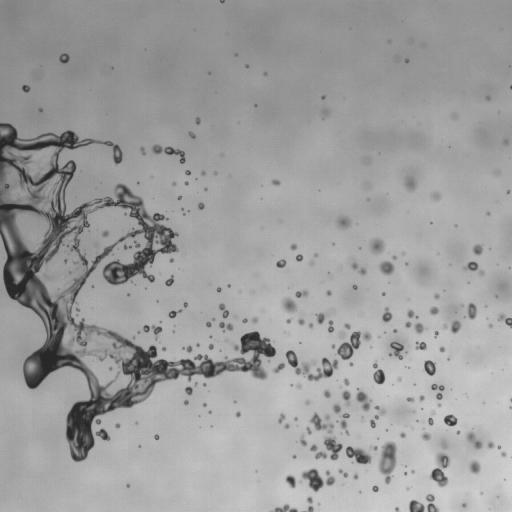droplet: (426, 452, 450, 487), (408, 493, 439, 511), (279, 296, 298, 314), (440, 319, 461, 334), (368, 237, 385, 255), (388, 341, 404, 360), (335, 215, 351, 230), (378, 260, 394, 275), (463, 302, 477, 319), (430, 383, 444, 400), (422, 360, 436, 375), (443, 414, 458, 427), (404, 176, 416, 192), (218, 321, 233, 333), (382, 306, 392, 323), (414, 322, 428, 334), (469, 459, 480, 474), (420, 427, 431, 441), (272, 362, 285, 373), (406, 308, 418, 319), (414, 341, 427, 351), (294, 289, 308, 298), (472, 244, 483, 255), (75, 129, 86, 140), (26, 130, 37, 141), (60, 147, 71, 158), (202, 174, 213, 185), (370, 228, 381, 239), (284, 250, 295, 261), (378, 250, 389, 261), (122, 254, 133, 265), (369, 264, 380, 275), (418, 313, 429, 324), (430, 314, 441, 325), (459, 316, 470, 327), (161, 317, 172, 328), (34, 337, 45, 348), (426, 339, 437, 350), (404, 340, 415, 351), (326, 349, 337, 360), (419, 349, 430, 360), (209, 351, 220, 362), (274, 351, 285, 362), (59, 364, 70, 375), (46, 370, 57, 381), (192, 372, 203, 383), (349, 398, 360, 409), (114, 405, 125, 416), (329, 412, 340, 423), (300, 416, 311, 427), (56, 420, 67, 431), (315, 429, 326, 440), (59, 438, 70, 449), (470, 449, 481, 460), (370, 451, 381, 462), (321, 457, 332, 468), (391, 465, 402, 476), (296, 500, 307, 511), (320, 107, 330, 119), (430, 191, 441, 201), (277, 412, 287, 423), (165, 274, 174, 286), (297, 313, 305, 326), (59, 53, 69, 63), (276, 259, 286, 268), (429, 306, 439, 315), (182, 344, 192, 353), (290, 382, 302, 389), (338, 330, 347, 339), (191, 124, 200, 133), (198, 176, 207, 185), (414, 179, 423, 188), (129, 185, 138, 194), (341, 208, 350, 217), (328, 219, 337, 228), (345, 225, 354, 234), (361, 241, 370, 250), (362, 245, 371, 254), (101, 255, 110, 264), (143, 263, 152, 272), (133, 272, 142, 281), (155, 275, 164, 284), (215, 293, 224, 302), (475, 306, 484, 315), (290, 311, 299, 320), (333, 321, 342, 330), (244, 324, 253, 333), (416, 332, 425, 341), (393, 333, 402, 342), (435, 336, 444, 345), (198, 345, 207, 354), (155, 350, 164, 359), (244, 350, 253, 359), (337, 358, 346, 367), (177, 373, 186, 382), (297, 373, 306, 382), (428, 374, 437, 383), (81, 392, 90, 401), (335, 396, 344, 405), (411, 399, 420, 408), (367, 407, 376, 416), (434, 414, 443, 423), (89, 422, 98, 431), (92, 434, 101, 443), (305, 435, 314, 444), (376, 438, 385, 447), (317, 442, 326, 451), (393, 449, 402, 458), (333, 472, 342, 481), (319, 483, 328, 492), (304, 486, 313, 495), (21, 85, 30, 93), (362, 156, 371, 164), (184, 386, 192, 395), (323, 389, 331, 398), (505, 444, 511, 455), (139, 146, 146, 155), (271, 179, 280, 186), (101, 230, 110, 237), (343, 376, 349, 386), (451, 112, 458, 120), (197, 202, 204, 210), (93, 242, 100, 250), (251, 316, 258, 324), (0, 254, 5, 265), (0, 278, 5, 289), (188, 131, 195, 138), (290, 243, 297, 250), (296, 254, 303, 261), (308, 259, 315, 266), (404, 321, 411, 328), (399, 432, 406, 439), (145, 146, 152, 153), (181, 162, 188, 169), (205, 169, 212, 176), (398, 178, 405, 185), (176, 179, 183, 186), (64, 208, 71, 215), (146, 209, 153, 216), (125, 236, 132, 243), (170, 236, 177, 243), (471, 238, 478, 245), (130, 246, 137, 253), (481, 247, 488, 254), (292, 248, 299, 255), (154, 252, 161, 259), (163, 252, 170, 259), (471, 254, 478, 261), (391, 259, 398, 266), (357, 260, 364, 267), (352, 269, 359, 276), (383, 273, 390, 280), (85, 276, 92, 283), (221, 286, 228, 293), (292, 296, 299, 303), (10, 298, 17, 305), (431, 299, 438, 306), (318, 306, 325, 313), (461, 307, 468, 314), (283, 311, 290, 318), (310, 316, 317, 323), (222, 317, 229, 324), (409, 317, 416, 324), (290, 318, 297, 325), (211, 320, 218, 327), (321, 320, 328, 327), (345, 328, 352, 335), (369, 330, 376, 337), (132, 338, 139, 345), (142, 344, 149, 351), (234, 350, 241, 357), (440, 351, 447, 358), (182, 352, 189, 359), (186, 352, 193, 359), (258, 353, 265, 360), (164, 354, 171, 361), (280, 356, 287, 363), (315, 360, 322, 367), (284, 362, 291, 369), (75, 369, 82, 376), (221, 369, 228, 376), (236, 369, 243, 376), (245, 369, 252, 376), (320, 375, 327, 382), (206, 376, 213, 383), (253, 376, 260, 383), (168, 377, 175, 384), (19, 379, 26, 386), (181, 392, 188, 399), (349, 392, 356, 399), (356, 400, 363, 407), (64, 404, 71, 411), (308, 422, 315, 429), (333, 422, 340, 429), (450, 424, 457, 431), (425, 425, 432, 432), (459, 431, 466, 438), (474, 433, 481, 440), (480, 440, 487, 447), (467, 441, 474, 448), (376, 447, 383, 454), (87, 448, 94, 455), (338, 448, 345, 455), (442, 448, 449, 455), (447, 453, 454, 460), (357, 462, 364, 469), (430, 462, 437, 469), (463, 463, 470, 470), (478, 463, 485, 470), (303, 464, 310, 471), (441, 467, 448, 474), (329, 469, 336, 476), (468, 471, 475, 478), (378, 472, 385, 479), (293, 473, 300, 480), (320, 474, 327, 481), (430, 479, 437, 486), (421, 499, 428, 506), (302, 501, 309, 508), (285, 317, 293, 323), (406, 397, 415, 402), (400, 506, 409, 511), (502, 139, 509, 145), (326, 289, 332, 296), (438, 346, 445, 352), (419, 395, 425, 402), (304, 399, 311, 405), (372, 485, 378, 492), (195, 117, 200, 125), (308, 322, 313, 330), (434, 330, 439, 338), (353, 471, 358, 479), (184, 170, 190, 176), (216, 286, 222, 292), (433, 293, 439, 299), (344, 323, 350, 329), (284, 330, 290, 336), (235, 411, 241, 417), (500, 451, 506, 457), (394, 506, 401, 511), (485, 95, 491, 100), (171, 181, 177, 186), (352, 284, 357, 290), (182, 302, 188, 307), (206, 321, 211, 327), (396, 376, 401, 382), (183, 399, 188, 405), (360, 416, 365, 422), (284, 423, 289, 429), (154, 434, 159, 440), (442, 443, 447, 449), (507, 311, 511, 318), (460, 507, 467, 511), (177, 195, 182, 200), (392, 255, 397, 260), (169, 257, 174, 262), (242, 318, 247, 323), (161, 346, 166, 351), (108, 366, 113, 371), (202, 402, 207, 407), (115, 423, 120, 428), (410, 469, 415, 474), (67, 58, 72, 63), (64, 61, 69, 66), (23, 80, 28, 85), (33, 106, 38, 111), (1, 118, 6, 123), (190, 118, 195, 123), (10, 121, 15, 126), (69, 126, 74, 131), (47, 127, 52, 132), (42, 128, 47, 133), (56, 131, 61, 136), (16, 132, 21, 137), (89, 134, 94, 139), (77, 136, 82, 141), (101, 136, 106, 141), (112, 139, 117, 144), (89, 142, 94, 147), (160, 143, 165, 148), (118, 144, 123, 149), (107, 145, 112, 150), (172, 145, 177, 150), (136, 150, 141, 155), (160, 150, 165, 155), (183, 153, 188, 158), (121, 154, 126, 159), (175, 154, 180, 159), (109, 158, 114, 163), (74, 160, 79, 165), (116, 162, 121, 167), (57, 163, 62, 168), (72, 171, 77, 176), (184, 175, 189, 180), (275, 175, 280, 180), (70, 176, 75, 181), (266, 179, 271, 184), (270, 183, 275, 188), (98, 193, 103, 198), (76, 201, 81, 206), (193, 204, 198, 209), (350, 221, 355, 226), (171, 227, 176, 232), (290, 238, 295, 243), (118, 241, 123, 246), (286, 241, 291, 246), (295, 241, 300, 246), (111, 247, 116, 252), (395, 252, 400, 257), (274, 256, 279, 261), (312, 256, 317, 261), (301, 257, 306, 262), (387, 257, 392, 262), (463, 260, 468, 265), (284, 262, 289, 267), (477, 264, 482, 269), (347, 265, 352, 270), (276, 266, 281, 271), (365, 267, 370, 272), (466, 268, 471, 273), (472, 269, 477, 274), (89, 271, 94, 276), (153, 273, 158, 278), (143, 277, 148, 282), (102, 279, 107, 284), (125, 279, 130, 284), (106, 282, 111, 287), (81, 283, 86, 288), (297, 286, 302, 291), (330, 288, 335, 293), (77, 289, 82, 294), (307, 289, 312, 294), (437, 289, 442, 294), (321, 290, 326, 295), (328, 294, 333, 299), (74, 295, 79, 300), (438, 295, 443, 300), (472, 300, 477, 305), (71, 303, 76, 308), (178, 303, 183, 308), (463, 303, 468, 308), (224, 305, 229, 310), (26, 307, 31, 312), (388, 308, 393, 313), (218, 309, 223, 314), (379, 309, 384, 314), (413, 310, 418, 315), (253, 311, 258, 316), (70, 312, 75, 317), (175, 312, 180, 317), (433, 313, 438, 318), (493, 313, 498, 318), (329, 315, 334, 320), (257, 317, 262, 322), (345, 318, 350, 323), (388, 318, 393, 323), (487, 318, 492, 323), (74, 319, 79, 324), (83, 319, 88, 324), (484, 319, 489, 324), (500, 319, 505, 324), (95, 321, 100, 326), (154, 321, 159, 326), (303, 321, 308, 326), (400, 321, 405, 326), (421, 321, 426, 326), (201, 323, 206, 328), (446, 323, 451, 328), (409, 324, 414, 329), (483, 324, 488, 329), (138, 326, 143, 331), (111, 327, 116, 332), (148, 327, 153, 332), (224, 328, 229, 333), (457, 328, 462, 333), (377, 329, 382, 334), (438, 329, 443, 334), (238, 331, 243, 336), (127, 336, 132, 341), (345, 337, 350, 342), (208, 338, 213, 343), (236, 340, 241, 345), (183, 342, 188, 347), (270, 342, 275, 347), (334, 343, 339, 348), (443, 344, 448, 349), (212, 345, 217, 350), (286, 345, 291, 350), (389, 347, 394, 352), (352, 348, 357, 353), (417, 348, 422, 353), (399, 349, 404, 354), (335, 354, 340, 359), (393, 355, 398, 360), (348, 356, 353, 361), (328, 357, 333, 362), (344, 358, 349, 363), (18, 362, 23, 367), (419, 363, 424, 368), (376, 364, 381, 369), (371, 367, 376, 372), (434, 367, 439, 372), (278, 368, 283, 373), (331, 368, 336, 373), (422, 370, 427, 375), (383, 372, 388, 377), (347, 377, 352, 382), (383, 377, 388, 382), (310, 379, 315, 384), (339, 380, 344, 385), (154, 381, 159, 386), (188, 382, 193, 387), (374, 382, 379, 387), (203, 385, 208, 390), (343, 385, 348, 390), (191, 386, 196, 391), (328, 388, 333, 393), (362, 388, 367, 393), (434, 388, 439, 393), (407, 392, 412, 397), (320, 394, 325, 399), (414, 395, 419, 400), (421, 399, 426, 404), (369, 402, 374, 407), (131, 403, 136, 408), (432, 404, 437, 409), (204, 405, 209, 410), (384, 405, 389, 410), (231, 409, 236, 414), (339, 409, 344, 414), (373, 409, 378, 414), (239, 410, 244, 415), (444, 410, 449, 415), (384, 411, 389, 416), (308, 412, 313, 417), (453, 412, 458, 417), (239, 413, 244, 418), (275, 413, 280, 418), (318, 413, 323, 418), (93, 414, 98, 419), (439, 415, 444, 420), (235, 416, 240, 421), (344, 417, 349, 422), (373, 418, 378, 423), (281, 419, 286, 424), (365, 421, 370, 426), (443, 423, 448, 428), (345, 424, 350, 429), (340, 427, 345, 432), (402, 428, 407, 433), (418, 429, 423, 434), (106, 430, 111, 435), (295, 435, 300, 440), (422, 439, 427, 444), (296, 441, 301, 446), (493, 441, 498, 446), (306, 442, 311, 447), (492, 445, 497, 450), (500, 446, 505, 451), (496, 448, 501, 453), (65, 449, 70, 454), (327, 449, 332, 454), (311, 450, 316, 455), (505, 451, 510, 456), (66, 453, 71, 458), (325, 455, 330, 460), (351, 455, 356, 460), (318, 456, 323, 461), (501, 456, 506, 461), (68, 457, 73, 462), (79, 459, 84, 464), (405, 467, 410, 472), (427, 468, 432, 473), (347, 473, 352, 478), (281, 474, 286, 479), (389, 477, 394, 482), (352, 478, 357, 483), (331, 482, 336, 487), (317, 487, 322, 492), (412, 495, 417, 500), (431, 499, 436, 504), (311, 502, 316, 507), (465, 502, 470, 507), (278, 503, 283, 508), (288, 503, 293, 508), (270, 505, 275, 510), (303, 505, 308, 510), (201, 170, 205, 176), (460, 503, 466, 507), (0, 240, 3, 247), (0, 270, 3, 277), (405, 58, 409, 63), (263, 71, 267, 76), (321, 95, 326, 99), (184, 181, 189, 185), (506, 189, 510, 194), (313, 253, 318, 257), (488, 323, 492, 328), (393, 328, 397, 333), (331, 344, 335, 349), (349, 361, 353, 366), (294, 416, 298, 421), (291, 454, 296, 458), (406, 486, 411, 490), (245, 64, 249, 68), (213, 171, 217, 175), (486, 211, 490, 215), (401, 251, 405, 255), (211, 317, 215, 321), (446, 356, 450, 360), (202, 382, 206, 386), (437, 403, 441, 407), (456, 430, 460, 434), (126, 483, 130, 487), (479, 491, 483, 495), (196, 342, 199, 347), (194, 381, 197, 386), (508, 139, 511, 144), (312, 508, 317, 511), (405, 508, 410, 511), (422, 508, 427, 511), (387, 40, 391, 43), (234, 53, 238, 56), (208, 71, 211, 75), (220, 152, 223, 156), (150, 175, 153, 179), (204, 187, 207, 191), (366, 198, 370, 201), (429, 221, 433, 224), (404, 262, 408, 265), (91, 284, 94, 288), (381, 292, 385, 295), (495, 294, 498, 298), (137, 330, 140, 334), (132, 335, 135, 339), (209, 334, 212, 338), (376, 335, 380, 338), (369, 345, 372, 349), (233, 400, 237, 403), (208, 410, 211, 414), (135, 421, 138, 425), (404, 471, 407, 475), (317, 502, 320, 506), (509, 397, 511, 402), (0, 237, 2, 242), (254, 104, 257, 107), (136, 181, 139, 184), (454, 224, 457, 227), (332, 242, 335, 245), (358, 246, 361, 249), (327, 271, 330, 274), (227, 284, 230, 287), (238, 290, 241, 293), (127, 293, 130, 296), (407, 298, 410, 301), (460, 304, 463, 307), (484, 304, 487, 307), (159, 320, 162, 323), (172, 330, 175, 333), (413, 383, 416, 386), (339, 385, 342, 388), (412, 410, 415, 413), (416, 419, 419, 422), (385, 428, 388, 431), (138, 444, 141, 447), (358, 490, 361, 493), (221, 2, 224, 5), (61, 50, 64, 53), (405, 55, 408, 58), (401, 58, 404, 61), (404, 62, 407, 65), (248, 63, 251, 66), (246, 67, 249, 70), (208, 68, 211, 71), (204, 71, 207, 74), (266, 71, 269, 74), (263, 75, 266, 78), (19, 84, 22, 87), (506, 85, 509, 88), (20, 89, 23, 92), (27, 90, 30, 93), (320, 92, 323, 95), (318, 96, 321, 99), (324, 96, 327, 99), (254, 100, 257, 103), (256, 104, 259, 107), (42, 109, 45, 112), (199, 120, 202, 123), (187, 135, 190, 138), (194, 136, 197, 139), (179, 147, 182, 150), (188, 168, 191, 171), (204, 169, 207, 172), (190, 171, 193, 174), (195, 179, 198, 182), (139, 181, 142, 184), (184, 184, 187, 187), (203, 184, 206, 187), (172, 185, 175, 188), (200, 187, 203, 190), (207, 187, 210, 190), (64, 188, 67, 191), (204, 190, 207, 193), (503, 190, 506, 193), (177, 192, 180, 195), (174, 195, 177, 198), (181, 196, 184, 199), (176, 199, 179, 202), (202, 207, 205, 210), (487, 208, 490, 211), (183, 209, 186, 212), (158, 211, 161, 214), (164, 214, 167, 217), (484, 214, 487, 217), (182, 215, 185, 218), (429, 218, 432, 221), (454, 220, 457, 223), (430, 223, 433, 226), (334, 241, 337, 244), (132, 242, 135, 245), (328, 242, 331, 245), (293, 258, 296, 261), (297, 260, 300, 263), (171, 261, 174, 264), (273, 262, 276, 265), (329, 270, 332, 273), (324, 271, 327, 274), (167, 275, 170, 278), (172, 276, 175, 279), (153, 278, 156, 281), (150, 281, 153, 284), (225, 281, 228, 284), (171, 282, 174, 285), (164, 284, 167, 287), (230, 284, 233, 287), (349, 284, 352, 287), (356, 284, 359, 287), (91, 287, 94, 290), (227, 287, 230, 290), (350, 287, 353, 290), (213, 289, 216, 292), (220, 289, 223, 292), (380, 289, 383, 292), (216, 291, 219, 294), (378, 292, 381, 295), (127, 295, 130, 298), (381, 295, 384, 298), (155, 296, 158, 299), (492, 296, 495, 299), (158, 299, 161, 302), (185, 299, 188, 302), (153, 300, 156, 303), (76, 305, 79, 308), (185, 306, 188, 309), (168, 308, 171, 311), (174, 308, 177, 311), (165, 312, 168, 315), (227, 313, 230, 316), (240, 316, 243, 319), (170, 317, 173, 320), (142, 322, 145, 325), (331, 323, 334, 326), (506, 324, 509, 327), (205, 326, 208, 329), (208, 326, 211, 329), (161, 327, 164, 330), (173, 327, 176, 330), (434, 327, 437, 330), (489, 327, 492, 330), (396, 328, 399, 331), (174, 330, 177, 333), (330, 331, 333, 334), (431, 332, 434, 335), (436, 334, 439, 337), (211, 335, 214, 338), (299, 338, 302, 341), (389, 339, 392, 342), (418, 339, 421, 342), (398, 340, 401, 343), (425, 343, 428, 346), (179, 344, 182, 347), (328, 344, 331, 347), (165, 345, 168, 348), (201, 352, 204, 355), (385, 352, 388, 355), (449, 356, 452, 359), (398, 359, 401, 362), (431, 359, 434, 362), (448, 359, 451, 362), (371, 360, 374, 363), (406, 363, 409, 366), (434, 364, 437, 367), (350, 365, 353, 368), (404, 367, 407, 370), (407, 368, 410, 371), (401, 377, 404, 380), (411, 380, 414, 383), (415, 381, 418, 384), (428, 383, 431, 386), (287, 384, 290, 387), (412, 385, 415, 388), (428, 387, 431, 390), (421, 392, 424, 395), (507, 395, 510, 398), (234, 397, 237, 400), (202, 399, 205, 402), (437, 399, 440, 402), (180, 400, 183, 403), (407, 400, 410, 403), (199, 402, 202, 405), (181, 403, 184, 406), (186, 403, 189, 406), (505, 405, 508, 408), (417, 407, 420, 410), (211, 410, 214, 413), (282, 411, 285, 414), (207, 413, 210, 416), (378, 415, 381, 418), (297, 416, 300, 419), (414, 416, 417, 419), (431, 416, 434, 419), (456, 419, 459, 422), (117, 420, 120, 423), (294, 420, 297, 423), (413, 420, 416, 423), (441, 420, 444, 423), (209, 421, 212, 424), (425, 421, 428, 424), (119, 424, 122, 427), (385, 425, 388, 428), (116, 427, 119, 430), (387, 429, 390, 432), (158, 435, 161, 438), (103, 439, 106, 442), (154, 439, 157, 442), (135, 443, 138, 446), (140, 444, 143, 447), (137, 447, 140, 450), (290, 452, 293, 455), (295, 453, 298, 456), (289, 456, 292, 459), (294, 457, 297, 460), (411, 466, 414, 469), (403, 468, 406, 471), (414, 469, 417, 472), (406, 471, 409, 474), (413, 472, 416, 475), (357, 473, 360, 476), (504, 475, 507, 478), (500, 478, 503, 481), (372, 482, 375, 485), (407, 483, 410, 486), (123, 484, 126, 487), (129, 484, 132, 487), (369, 485, 372, 488), (126, 487, 129, 490), (402, 487, 405, 490), (360, 488, 363, 491), (377, 488, 380, 491), (479, 488, 482, 491), (371, 490, 374, 493), (356, 492, 359, 495), (482, 492, 485, 495), (495, 492, 498, 495), (460, 500, 463, 503), (156, 299, 158, 303), (187, 210, 190, 212), (448, 263, 451, 265), (508, 266, 510, 269), (467, 281, 470, 283), (144, 287, 147, 289), (421, 407, 423, 410), (509, 406, 511, 409), (210, 425, 213, 427), (404, 465, 407, 467), (504, 478, 506, 481), (496, 496, 499, 498), (509, 62, 511, 65), (509, 66, 511, 69), (509, 190, 511, 193), (509, 263, 511, 266), (509, 268, 511, 271), (509, 402, 511, 405), (509, 408, 511, 411), (392, 509, 395, 511), (509, 65, 511, 67), (378, 152, 380, 154), (195, 178, 197, 180), (260, 197, 262, 199), (489, 248, 491, 250), (443, 289, 445, 291), (486, 317, 488, 319), (299, 341, 301, 343), (219, 349, 221, 351), (405, 351, 407, 353), (336, 379, 338, 381), (198, 415, 200, 417), (340, 432, 342, 434), (377, 437, 379, 439), (255, 470, 257, 472), (216, 0, 219, 1), (448, 146, 450, 147), (450, 388, 451, 390), (382, 358, 383, 359)
ligament: (285, 350, 338, 381), (283, 468, 335, 492), (334, 330, 371, 359), (377, 440, 397, 484), (151, 144, 185, 164), (332, 403, 350, 435), (355, 387, 372, 411), (369, 404, 386, 428), (296, 426, 313, 447), (372, 360, 386, 385), (466, 428, 482, 449), (462, 261, 484, 276), (349, 257, 366, 275), (268, 503, 298, 511), (497, 313, 511, 328), (341, 389, 351, 407), (218, 303, 229, 318), (427, 409, 436, 425), (168, 309, 182, 318), (486, 441, 501, 449), (338, 468, 348, 478), (75, 307, 80, 316), (208, 343, 213, 352), (181, 207, 185, 215), (219, 0, 225, 3), (404, 365, 410, 368), (111, 66, 113, 69), (383, 331, 386, 333), (510, 84, 511, 89)
